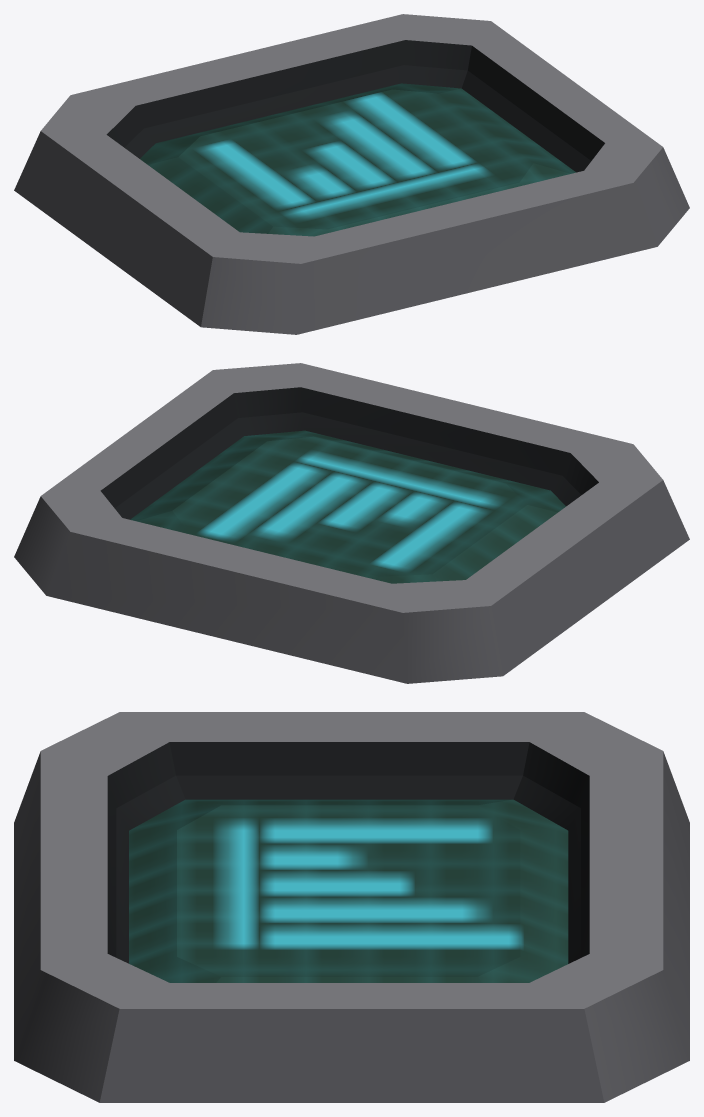
The model's file is SM_Prop_Screen_02.glb.
3 renders of one model, top to bottom at view 1: azimuth 30°, elevation 25°; view 2: azimuth 150°, elevation 25°; view 3: azimuth 270°, elevation 25°, orthographic. The views are drawn at different scales.
Parts seen in each view (by area): view 1: SM_Prop_Screen_02; view 2: SM_Prop_Screen_02; view 3: SM_Prop_Screen_02.
Part boxes in pixels (left/top/right/bottom): SM_Prop_Screen_02: left=14, top=14, right=689, bottom=334; SM_Prop_Screen_02: left=14, top=363, right=689, bottom=683; SM_Prop_Screen_02: left=14, top=712, right=689, bottom=1102.
Bounding box in the file's own units: 0.2827 × 0.0333 × 0.2506.
1 material, 1 textured.
